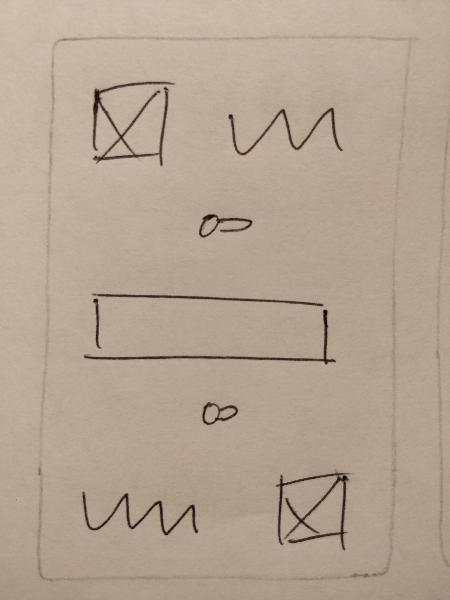image: (86, 69, 175, 180), (261, 466, 369, 556)
switch: (185, 201, 265, 255), (191, 393, 245, 431)
text: (215, 95, 351, 163), (70, 481, 208, 546)
text_input: (76, 284, 343, 370)
